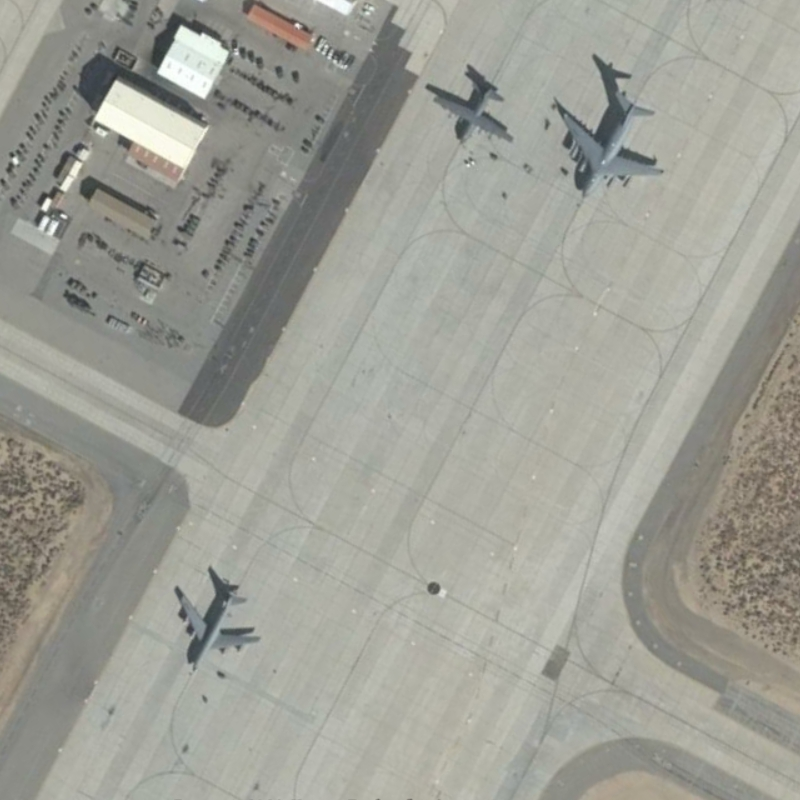A14: (166, 570, 267, 679)
A2: (426, 72, 514, 153)
A3: (554, 86, 668, 211)
